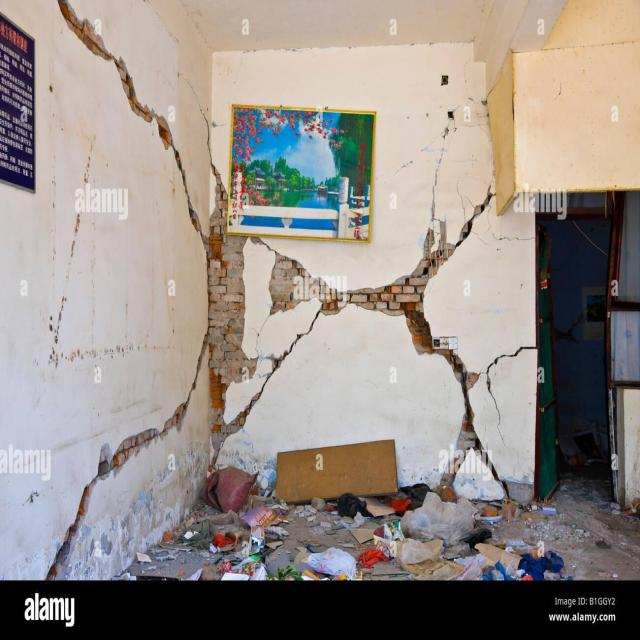damage: (156, 441, 576, 578), (31, 2, 209, 241), (257, 228, 485, 396), (43, 392, 191, 565), (188, 136, 260, 466), (446, 401, 507, 522), (421, 102, 468, 218), (470, 330, 550, 394)
